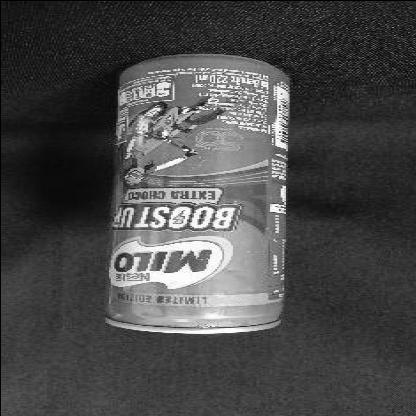alumunium_can: (102, 53, 288, 333)
